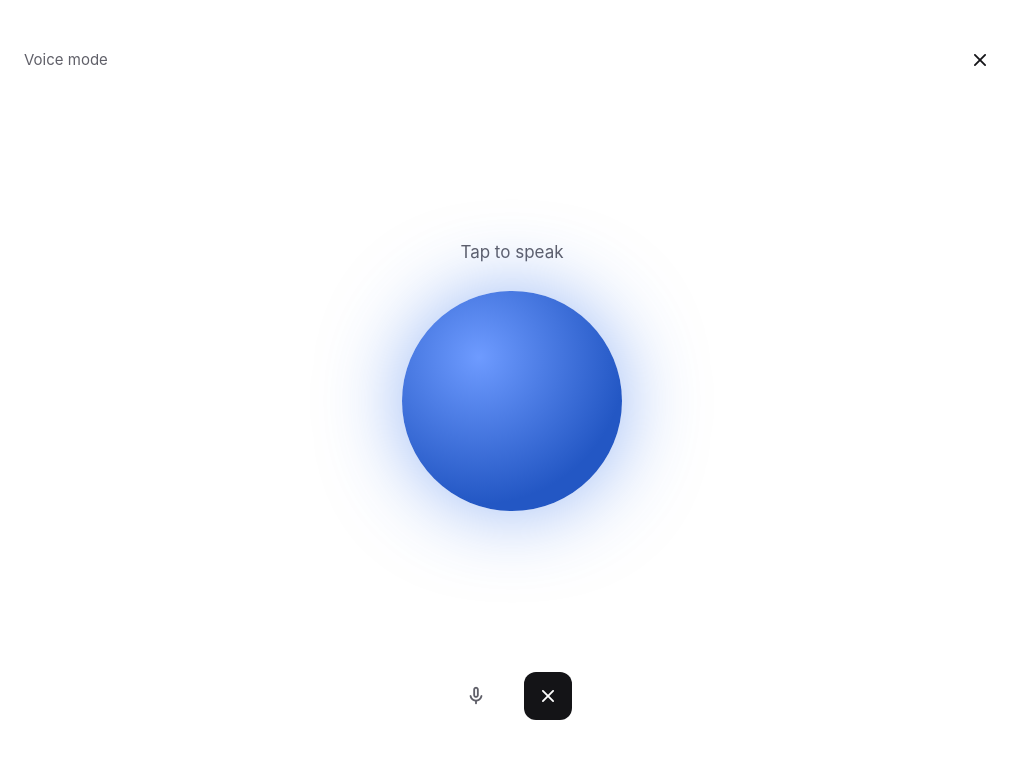
Test case: VoiceMode capture lifecycle › mute cancels active capture immediately
Click the button named "Tap to speak" at (512, 401), box [402,291,622,511]
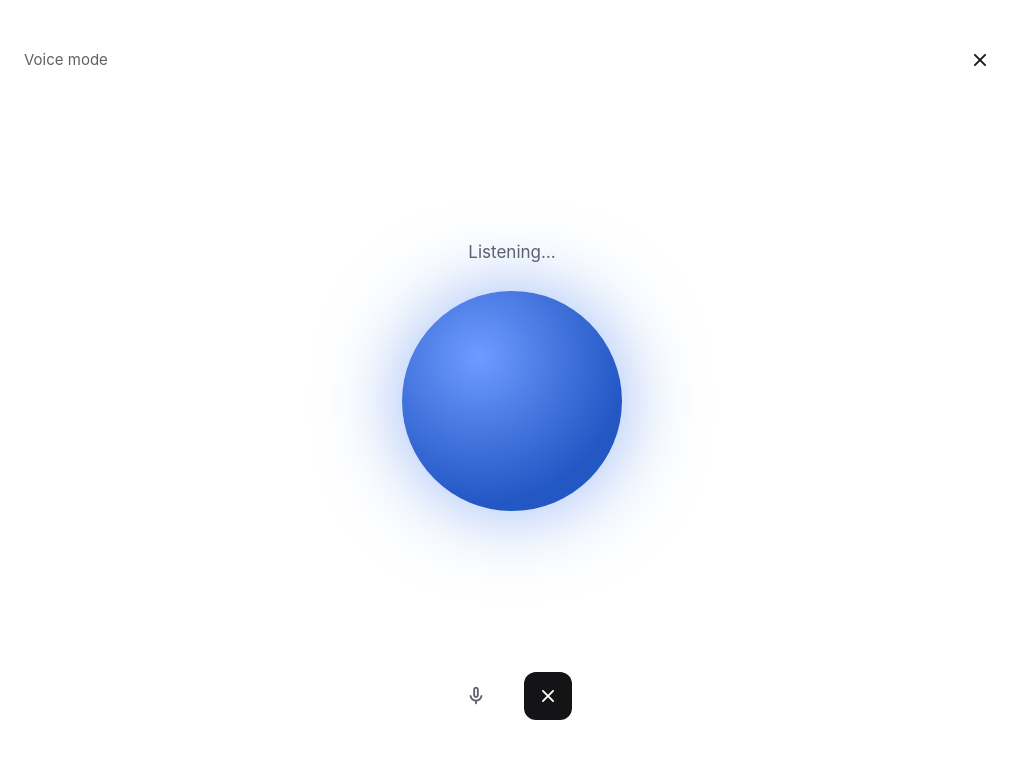
Result: the text "Listening…" is shown at [468,241,556,267]
Click the button named "Mute microphone" at (476, 696), box [452,672,500,720]
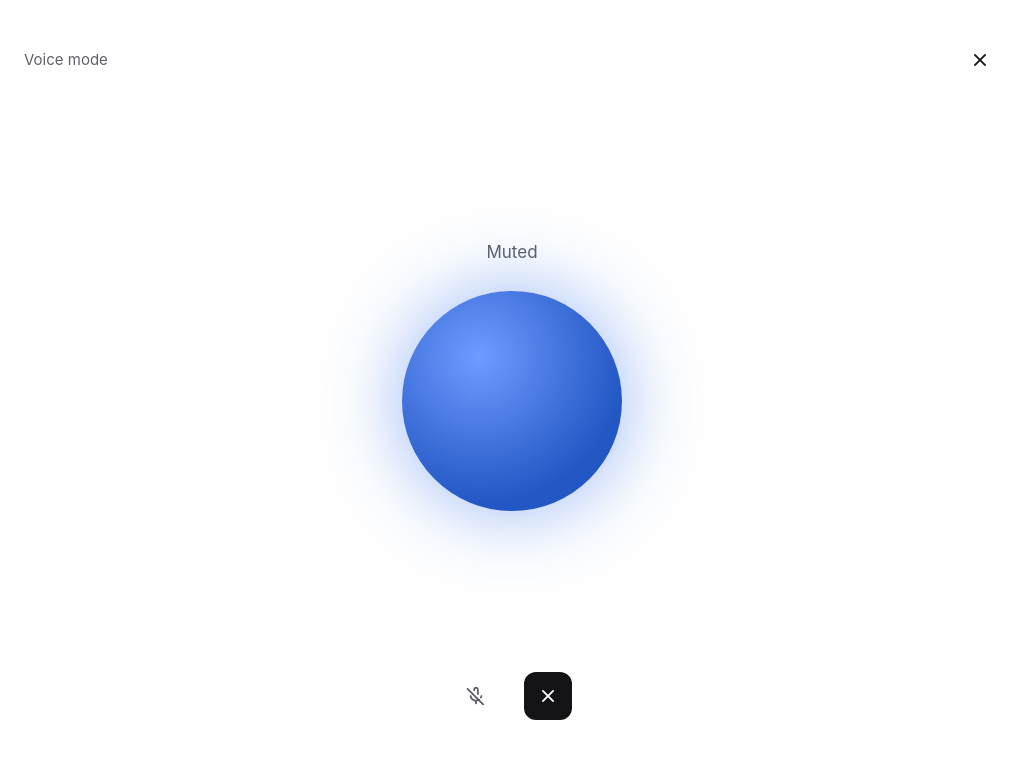
Expected: the number of messages is 1, [486,241,538,267]
Result: the text "Muted" is shown at [486,241,538,267]
Result: the message reads "Muted" at [486,242,538,262]
